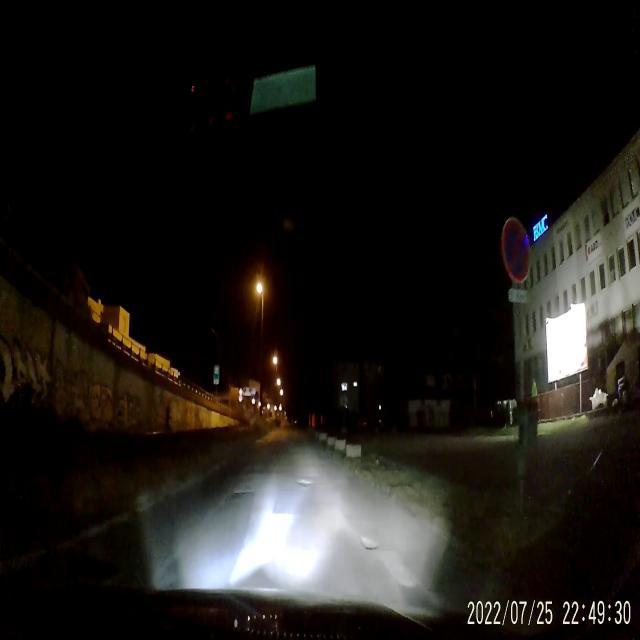Pothole: (358, 530, 380, 552), (228, 488, 254, 504), (292, 474, 312, 490)
